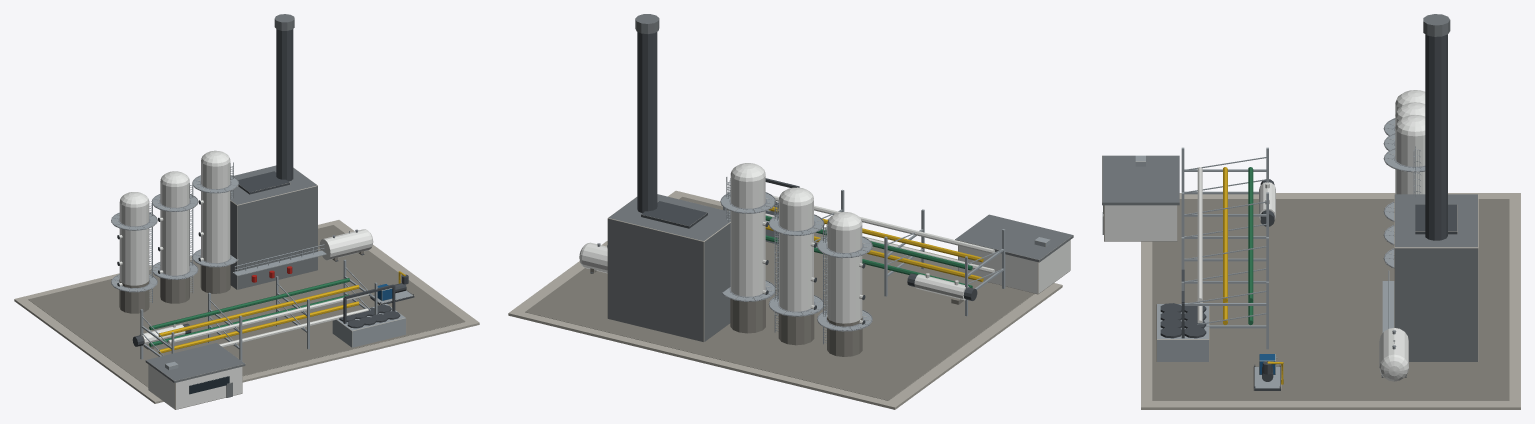
File: ref_reformer.glb
3 views of the same model, side by side, from view 1: azimuth 30°, elevation 25°; view 2: azimuth 150°, elevation 25°; view 3: azimuth 270°, elevation 25° (orthographic). The views are drawn at different scales.
Visible parts, largest first — view 1: ref_reformer; view 2: ref_reformer; view 3: ref_reformer.
Boxes of the visible parts, left/top/right/bottom form: ref_reformer: left=14, top=14, right=479, bottom=409; ref_reformer: left=508, top=14, right=1073, bottom=409; ref_reformer: left=1102, top=14, right=1520, bottom=409.
Size of the model in its own units: 48 by 34.9 by 39.67.
